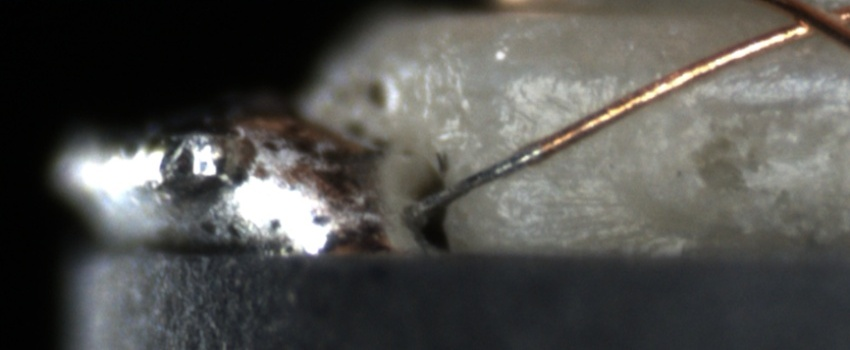CL: (764, 2, 846, 45)
DL: (475, 61, 850, 125)
TS: (410, 146, 540, 220)
TTCW: (414, 112, 597, 214)
